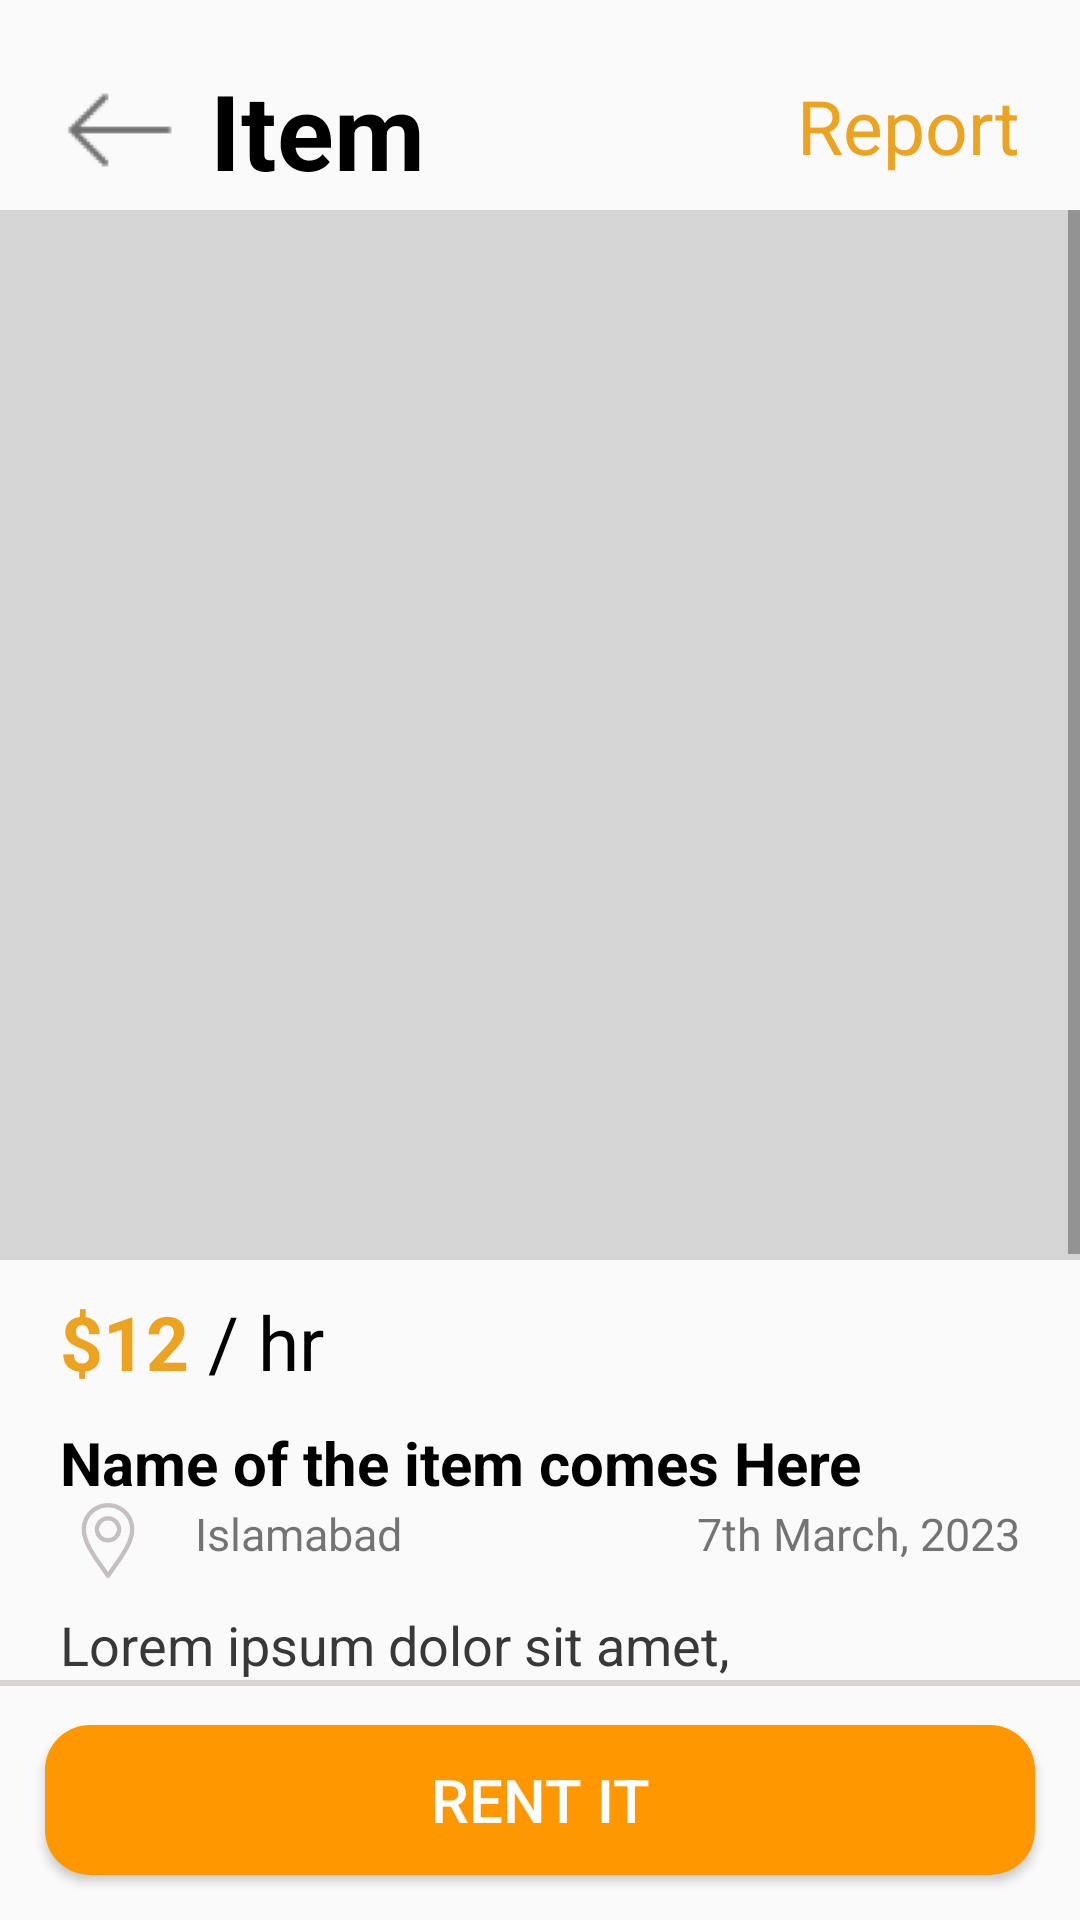

Where to tap for icons on this 1080*1920 app screen, as (x,y):
back arrow: (120,130)
location: (108,1540)
